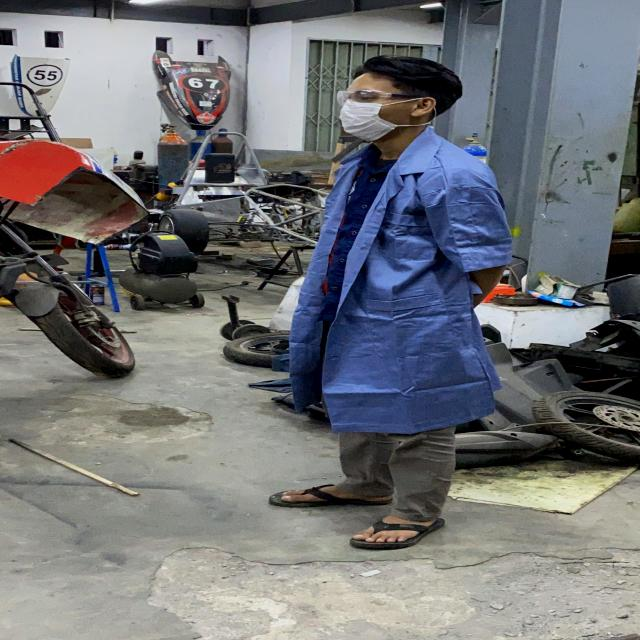face_mask: (328, 86, 417, 142)
glasses: (330, 87, 416, 106)
head_nohelmet: (347, 52, 458, 90)
person: (278, 53, 498, 554)
